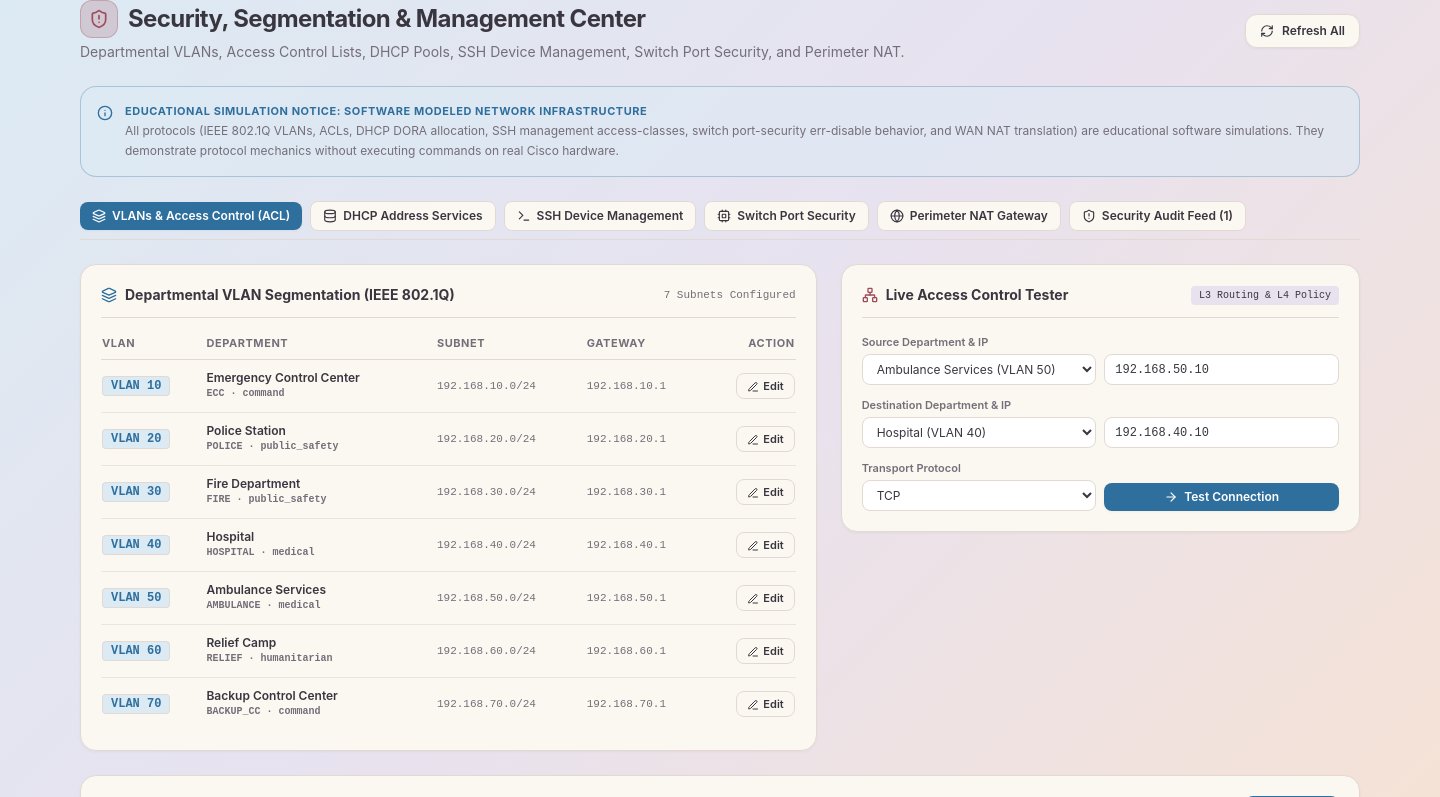
Test: AlertsPage - Security, Segmentation & Management Hub › switches to SSH tab, renders simulated Cisco configuration, and tests authorized connection
Click the button "SSH Device Management" at (600, 216), box [504,201,696,231]
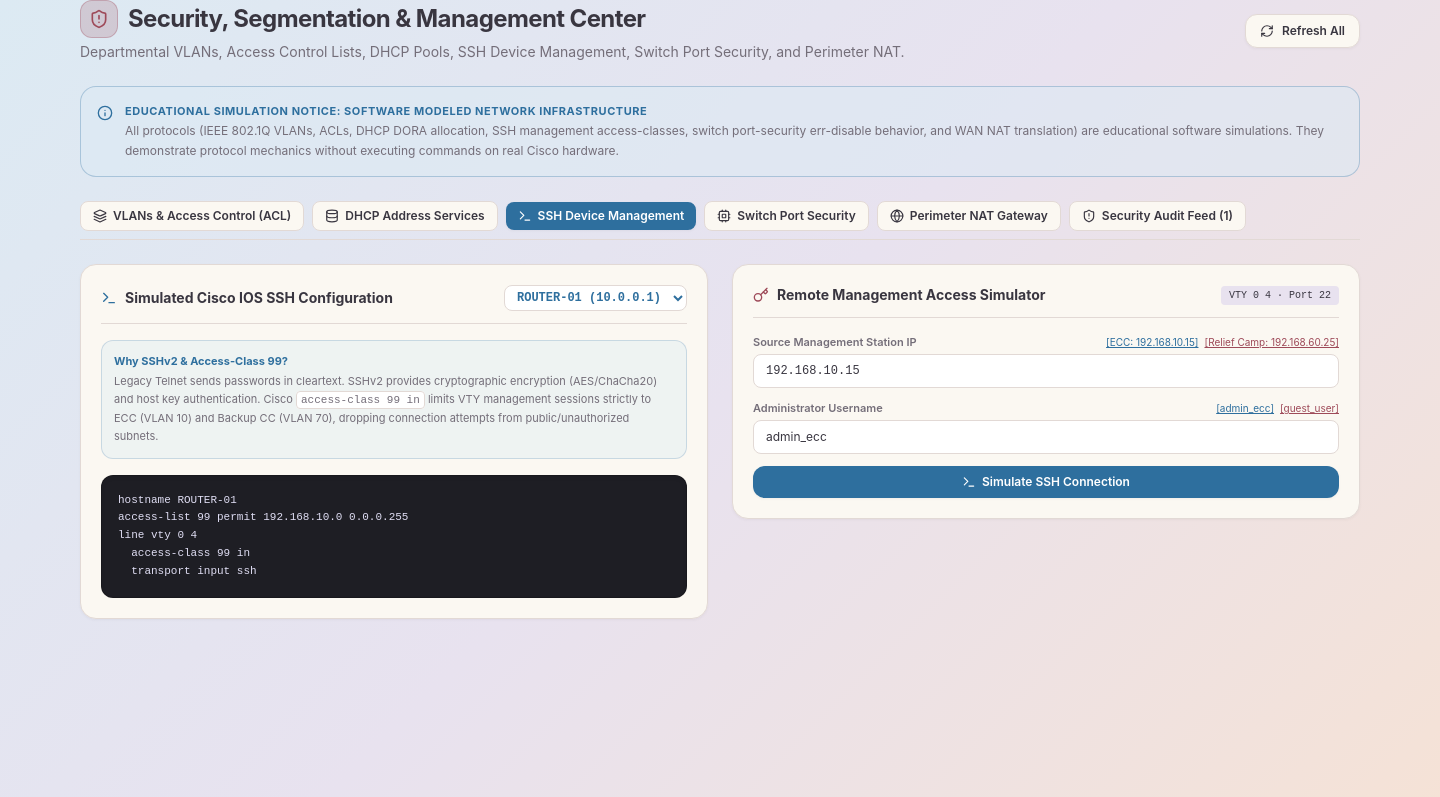
expect the heading "Simulated Cisco IOS SSH Configuration" is shown: met, box [125,288,393,308]
Click the button "Simulate SSH Connection" at (1046, 482), box [753,466,1339,498]
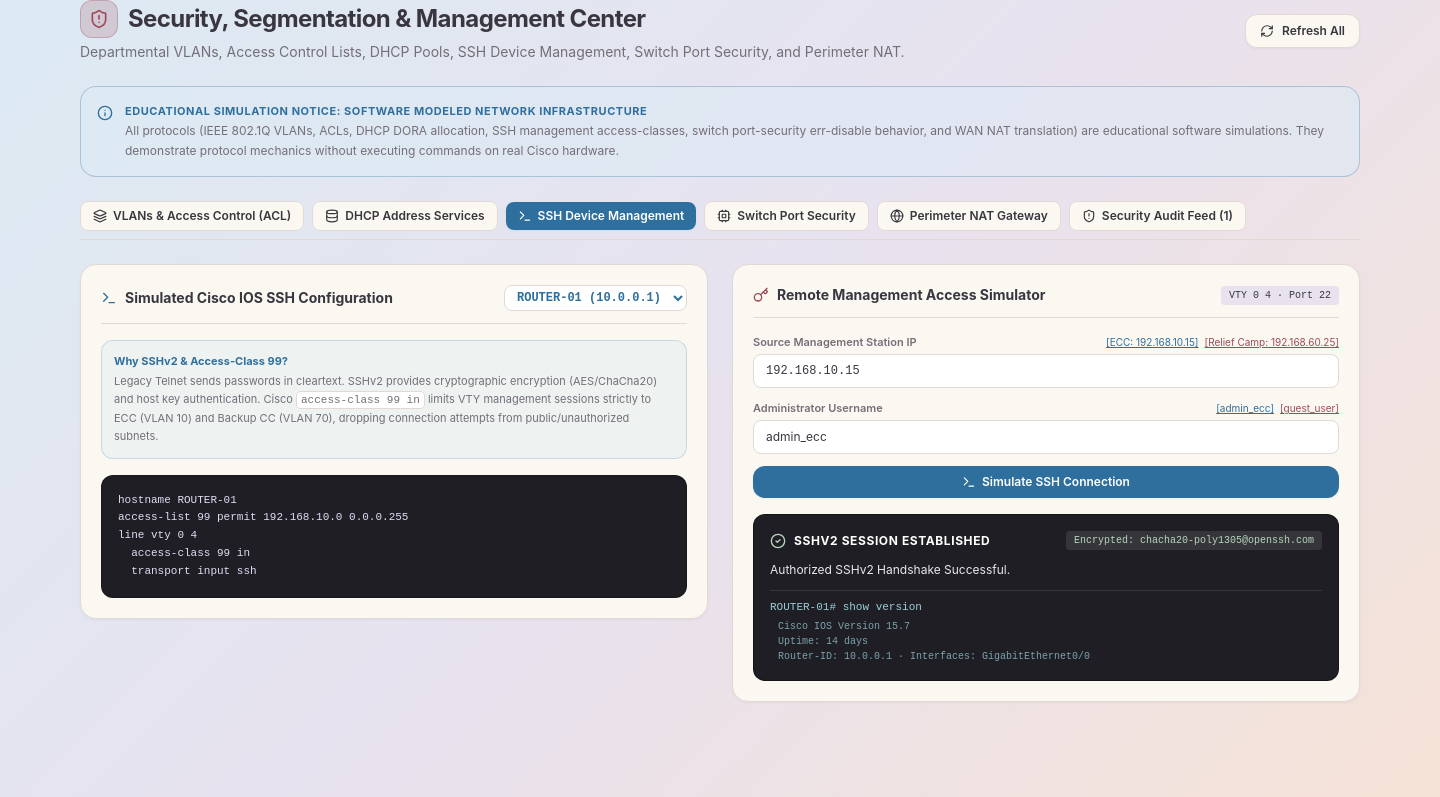
expect the text "SSHv2 Session Established" is shown: met, box [794,532,990,548]
expect the text "Encrypted: chacha20-poly1305@openssh.com" is shown: met, box [1066,531,1322,550]
expect the text "ROUTER-01# show version" is shown: met, box [770,600,922,612]
